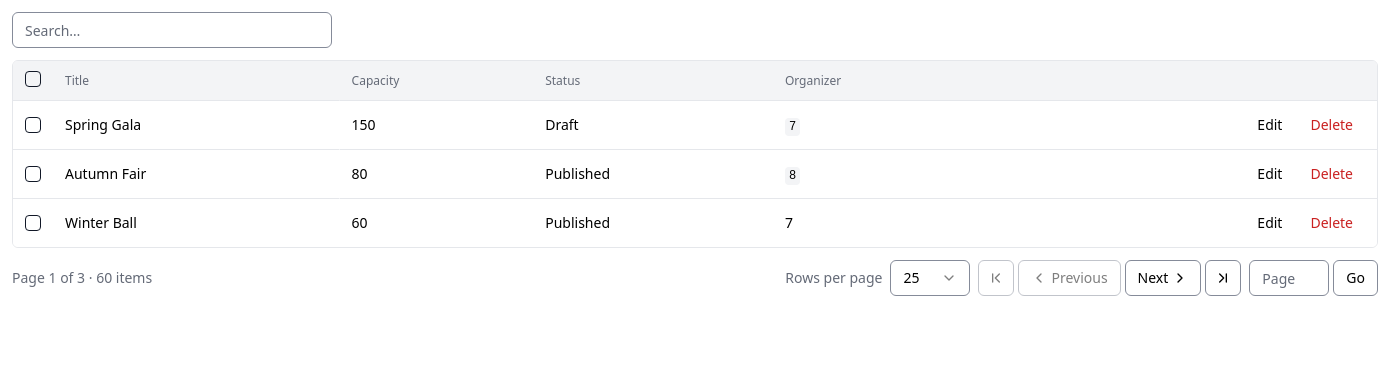
it: keyboard: the table is one Tab stop (grid) › the mouse works as before: a click opens the row, the checkbox only selects
Click the cell "150". click: coordinates (436, 126)
box: [340,101,533,150]
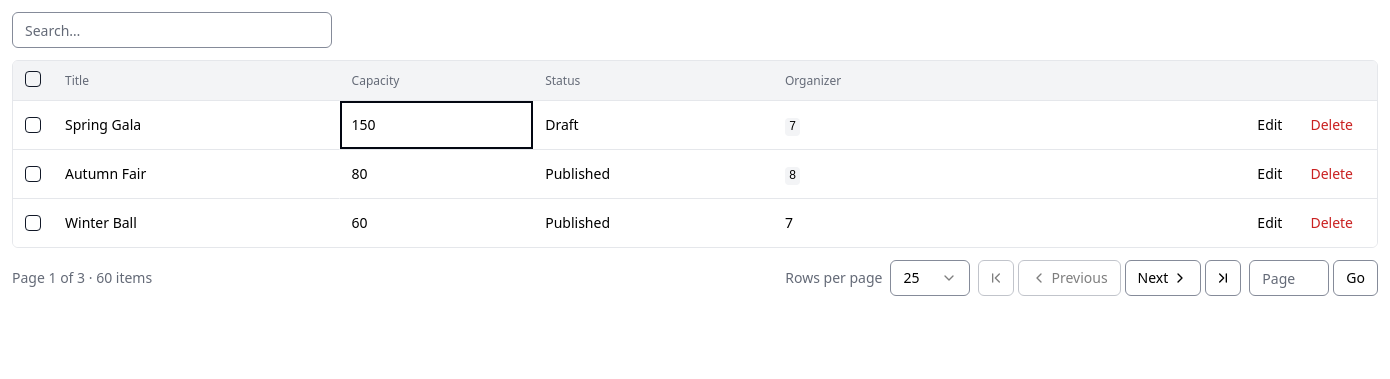
Click the checkbox named "Select Winter Ball". click: coordinates (33, 223)
box: [25,215,41,231]
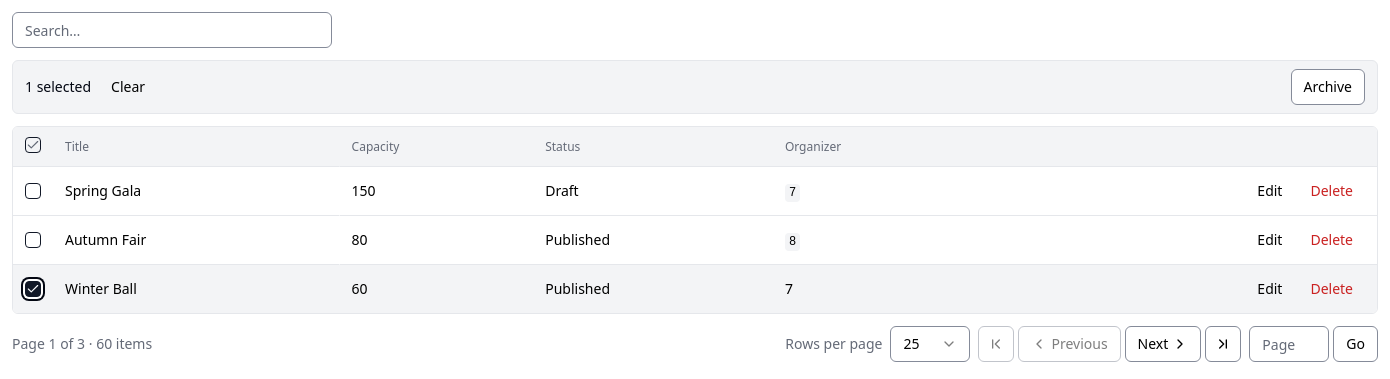
Now the text "1 selected" is shown, box [25,77,91,97]
